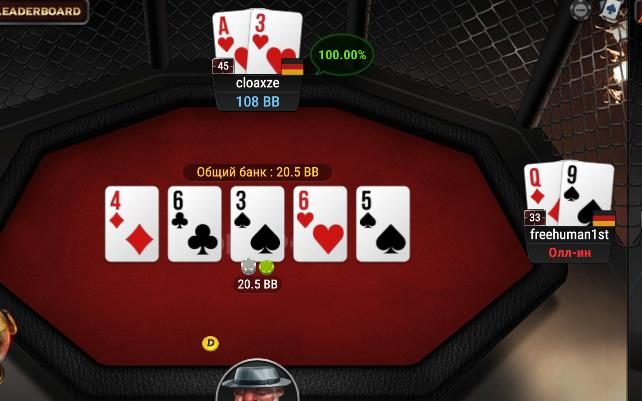3h: (250, 8, 301, 71)
3s: (232, 187, 283, 259)
4d: (106, 187, 157, 260)
5s: (356, 187, 409, 261)
6c: (169, 187, 221, 261)
6h: (293, 187, 347, 261)
9s: (561, 160, 613, 228)
Ah: (213, 12, 249, 73)
Qd: (523, 163, 562, 227)
